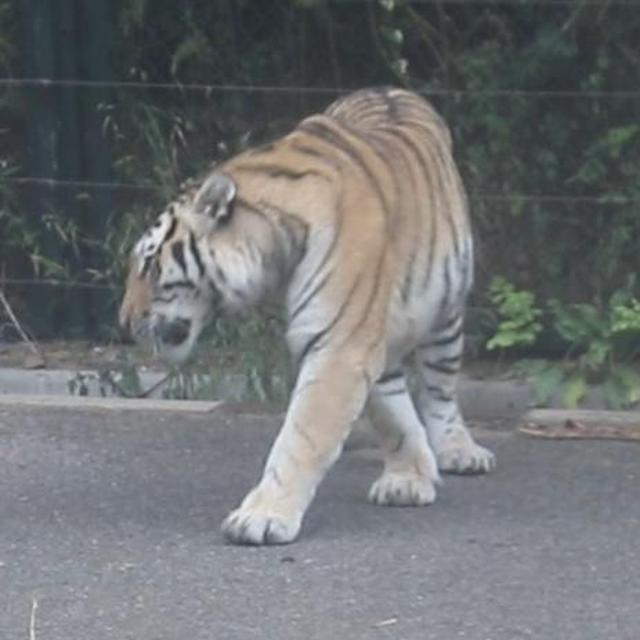tiger: (115, 83, 497, 546)
